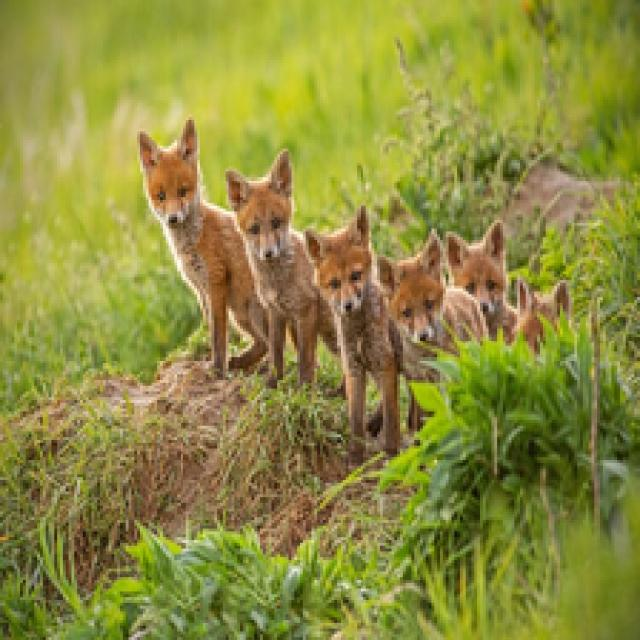fox: (121, 123, 273, 366), (366, 248, 498, 479), (439, 219, 584, 418), (221, 164, 337, 376), (300, 207, 392, 458)
